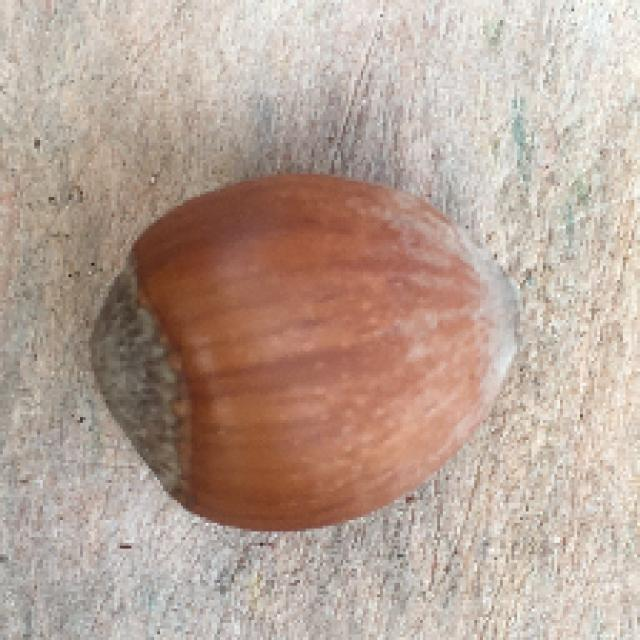QualityHazelnut: (79, 173, 521, 533)
